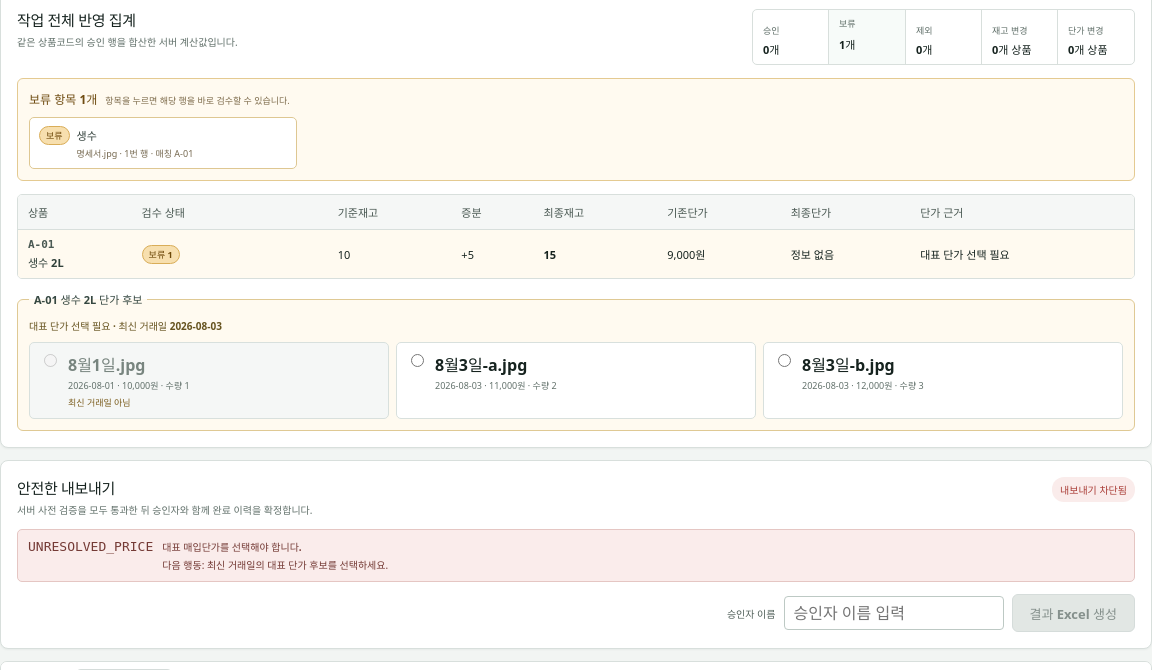
Test: 사진과 품목 검수 › AC-07 최신 거래일 충돌 후보만 선택하고 수동 해결 결과를 반영한다
The image size is (1152, 670).
(page scrolled)
expect the radio button with aria-label "A-01 8월1일.jpg 2026-08-01 10,000원 대표 단가" is disabled: met, box [44, 354, 57, 367]
expect the text "최신 거래일 아님" is shown: met, box [68, 396, 131, 409]
Click the radio button with aria-label "A-01 8월3일-b.jpg 2026-08-03 12,000원 대표 단가": (784, 361) [778, 354, 791, 367]
(page scrolled)
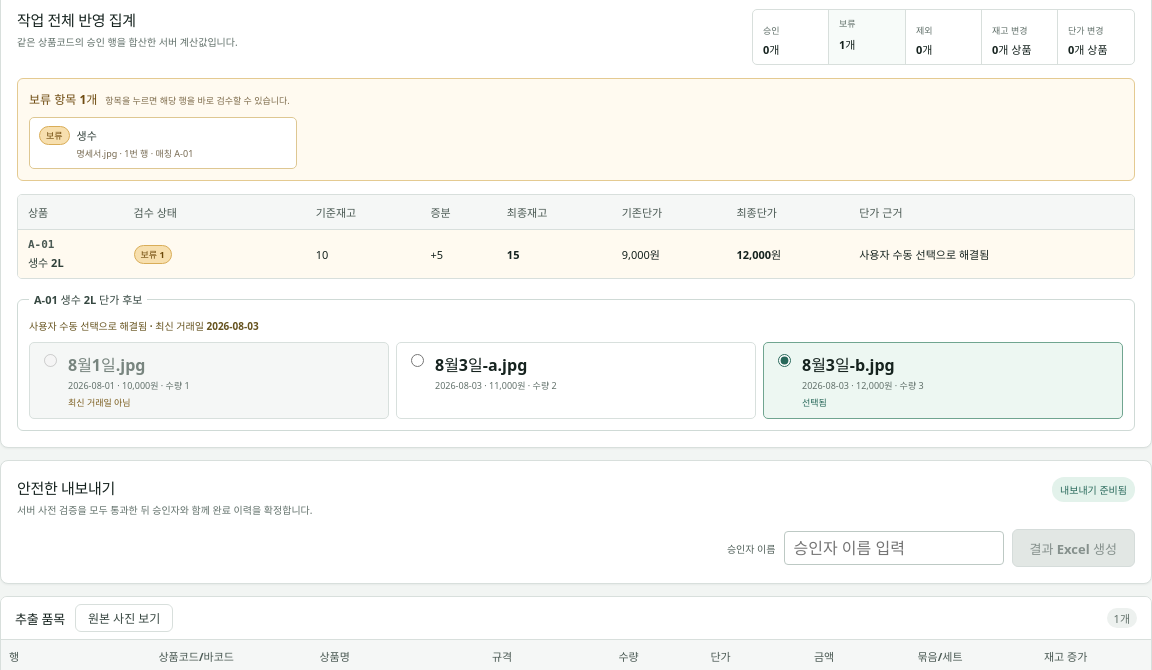
expect the radio button with aria-label "A-01 8월3일-b.jpg" is checked: met, box [778, 354, 791, 367]
expect the text "사용자 수동 선택으로 해결됨" is shown: met, box [849, 230, 1134, 278]
